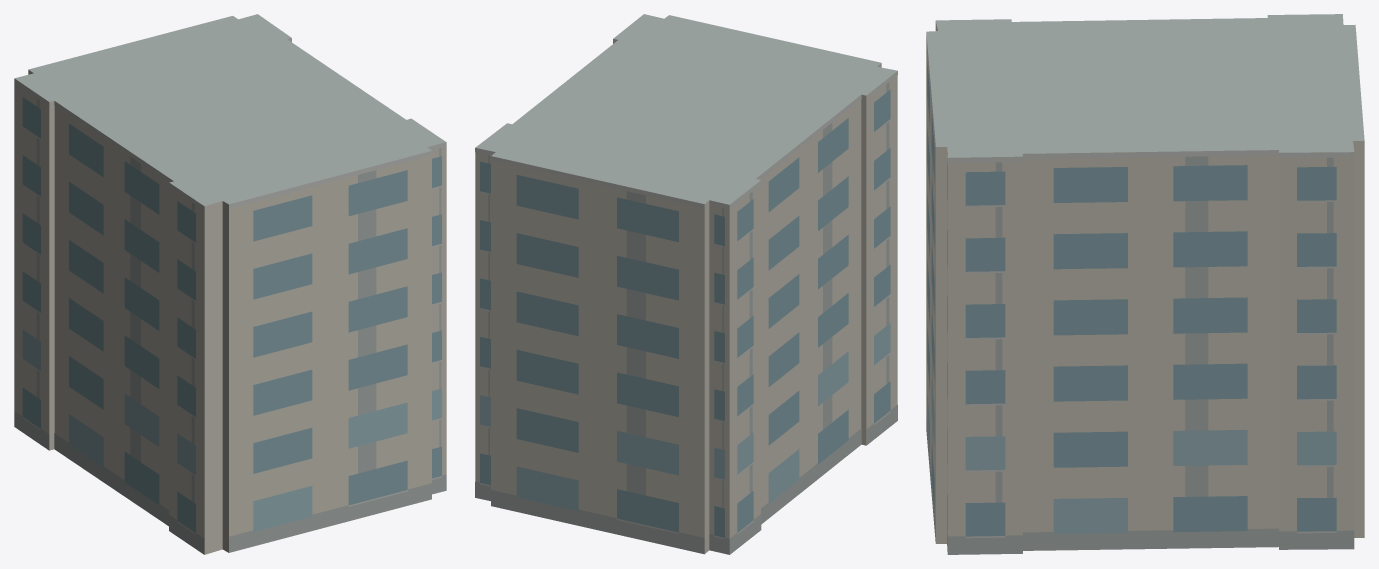
File: survey-upis-32558441.glb
3 views of the same model, side by side, from view 1: azimuth 30°, elevation 25°; view 2: azimuth 150°, elevation 25°; view 3: azimuth 270°, elevation 25° (orthographic). The views are drawn at different scales.
Visible parts, largest first — view 1: survey-upis-32558441.tmp; view 2: survey-upis-32558441.tmp; view 3: survey-upis-32558441.tmp.
Part boxes in pixels (x1,y1,x2,y2): survey-upis-32558441.tmp: [14, 14, 446, 554]; survey-upis-32558441.tmp: [475, 14, 897, 554]; survey-upis-32558441.tmp: [926, 14, 1364, 554].
Size of the model in its own units: 14.38 by 18.5 by 18.52.
